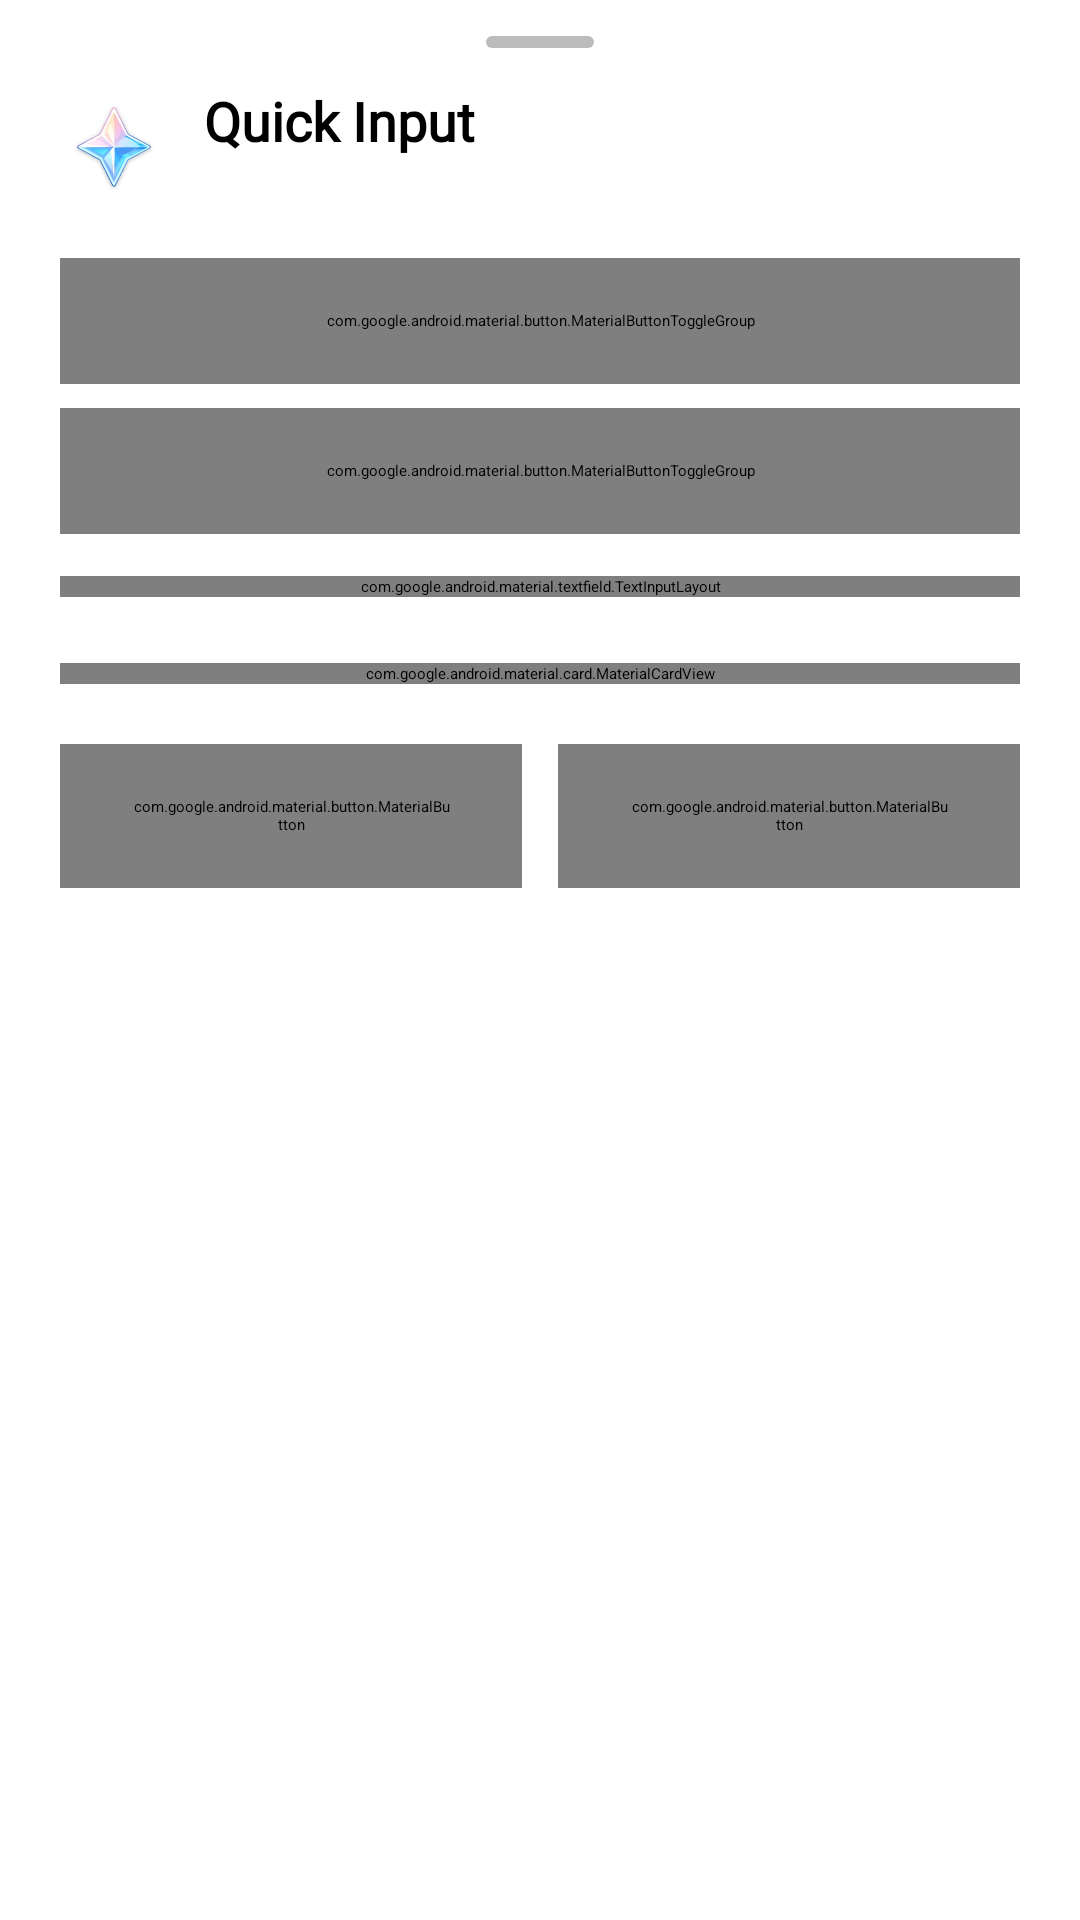

Icon bounding boxes for this 1080w x 1920h phone screenshot, format (left=x1, top=y1, right=x2, bottom=y2):
primogem: (left=77, top=107, right=151, bottom=187)
